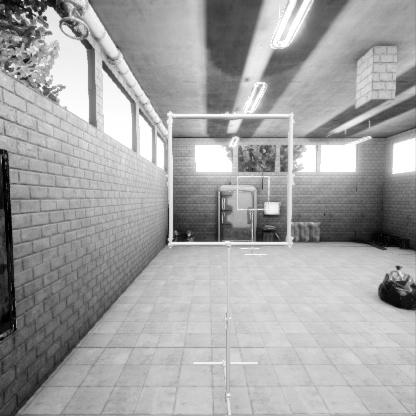gate: (170, 176, 299, 304), (237, 207, 271, 241)
